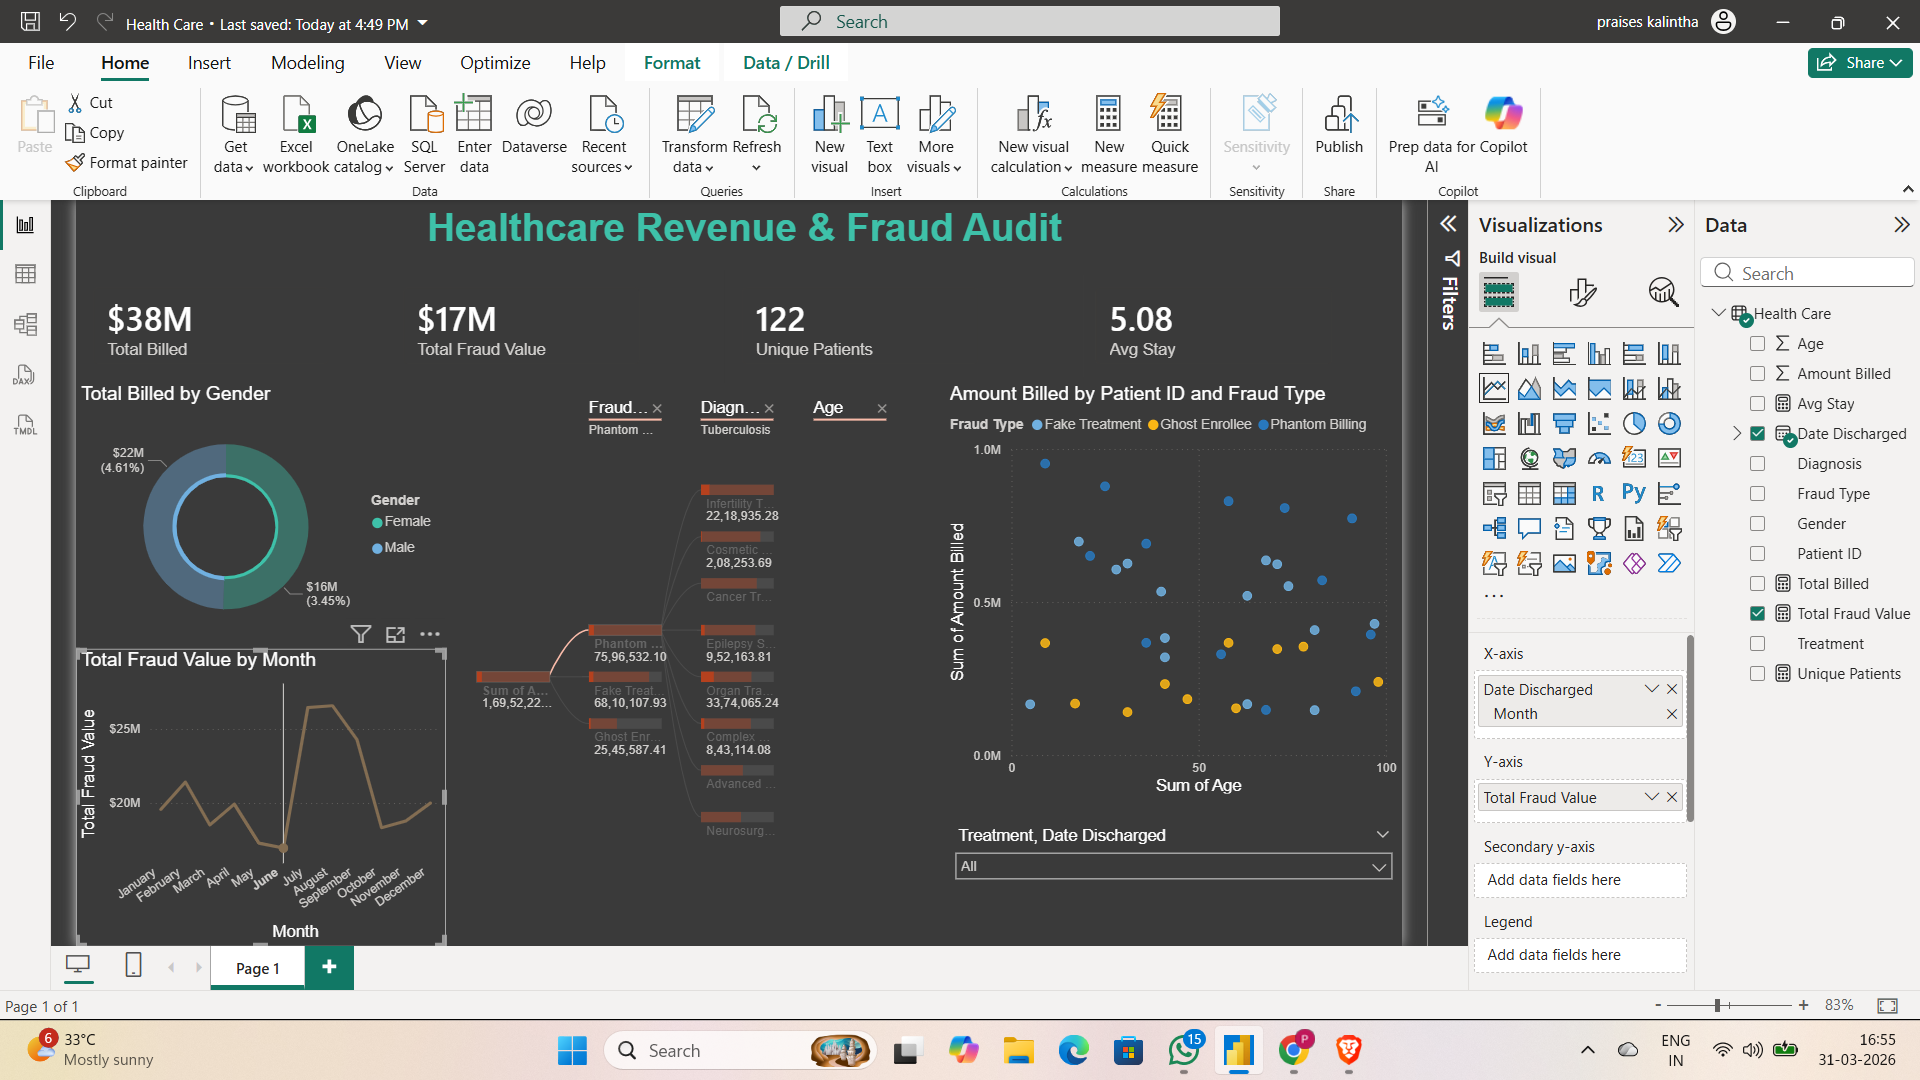

What the dashboard file says about the page in this screenshot:
{"tool":"powerbi","page":{"name":"Page 1","canvas":[1280,720],"ordinal":0},"visuals":[{"type":"textbox","box":[9.6,0,1270.7,76.8],"z":0},{"type":"cardVisual","fields":{"Data":["Health Care.Total Billed"]},"box":[0,67.6,261.8,108.6],"z":1000},{"type":"cardVisual","fields":{"Data":["Health Care.Total Fraud Value"]},"box":[299.1,67.2,262.1,108.4],"z":2000},{"type":"cardVisual","fields":{"Data":["Health Care.Unique Patients"]},"box":[625.7,67.2,262.1,108.4],"z":3000},{"type":"cardVisual","fields":{"Data":["Health Care.Avg Stay (Days)"]},"box":[967.4,67.2,262.1,108.4],"z":4000},{"type":"donutChart","fields":{"Category":["Health Care.Gender"],"Y":["Health Care.Total Billed"]},"box":[0,175.6,356.8,258],"z":5000},{"type":"lineChart","fields":{"Category":["Health Care.Date Discharged.Variation.Date Hierarchy.Month"],"Y":["Health Care.Total Fraud Value"]},"box":[0,433.6,356.8,286.8],"z":6000},{"type":"scatterChart","title":"Amount Billed by Patient ID and Fraud Type","fields":{"X":["Sum(Health Care.Age)"],"Series":["Health Care.Fraud Type"],"Y":["Sum(Health Care.Amount Billed)"],"Category":["Health Care.Patient ID"]},"box":[838.4,175.6,441.9,402.1],"z":8000},{"type":"slicer","fields":{"Values":["Health Care.Treatment","Health Care.Date Discharged"]},"box":[838.4,599.7,441.9,120.8],"z":9000},{"type":"decompositionTreeVisual","fields":{"ExplainBy":["Health Care.Fraud Type","Health Care.Diagnosis","Health Care.Age","Health Care.Gender"],"Analyze":["Sum(Health Care.Amount Billed)"]},"box":[356.8,175.6,481.6,544.8],"z":9001}]}

Visuals, with their boxes on the page's 1280x720 design canvas (x1, y1, x2, y2). These are canvas units, not pixel positions in the 1920x1080 screenshot, which may show the page scaled, cropped or inside an application window:
textbox: x1=10, y1=0, x2=1280, y2=77
cardVisual - Health Care.Total Billed: x1=0, y1=68, x2=262, y2=176
cardVisual - Health Care.Total Fraud Value: x1=299, y1=67, x2=561, y2=176
cardVisual - Health Care.Unique Patients: x1=626, y1=67, x2=888, y2=176
cardVisual - Health Care.Avg Stay (Days): x1=967, y1=67, x2=1230, y2=176
donutChart - Health Care.Gender x Health Care.Total Billed: x1=0, y1=176, x2=357, y2=434
lineChart - Health Care.Date Discharged.Variation.Date Hierarchy.Month x Health Care.Total Fraud Value: x1=0, y1=434, x2=357, y2=720
"Amount Billed by Patient ID and Fraud Type" scatterChart: x1=838, y1=176, x2=1280, y2=578
slicer - Health Care.Treatment x Health Care.Date Discharged: x1=838, y1=600, x2=1280, y2=720
decompositionTreeVisual - Health Care.Fraud Type x Health Care.Diagnosis: x1=357, y1=176, x2=838, y2=720
